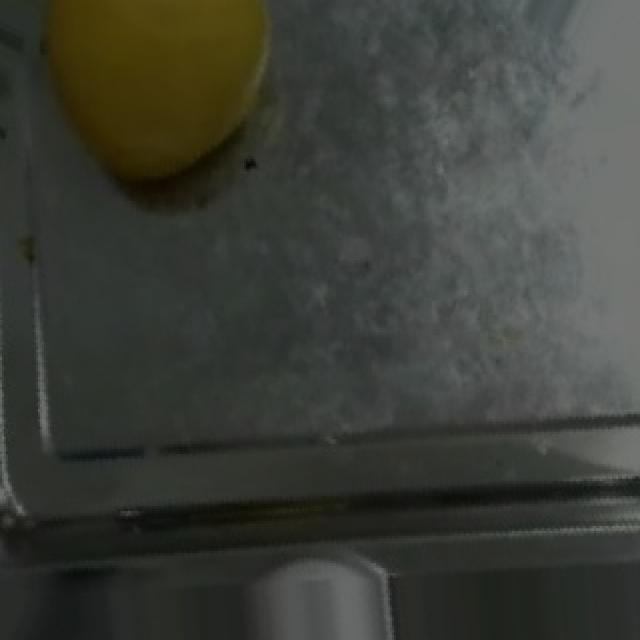fruit: (10, 0, 306, 208)
